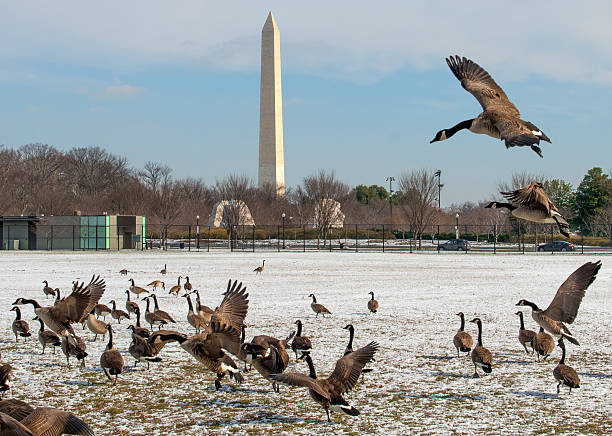goose: (424, 56, 561, 163), (480, 182, 578, 241), (148, 327, 233, 390), (283, 351, 350, 424), (511, 291, 586, 349), (241, 334, 292, 390), (12, 293, 74, 336), (553, 333, 583, 404), (339, 322, 369, 380), (471, 313, 495, 379), (98, 325, 124, 384), (59, 326, 92, 372), (288, 317, 321, 362), (447, 309, 474, 361), (31, 314, 63, 357), (505, 307, 534, 354), (126, 321, 155, 364), (178, 292, 207, 328), (140, 295, 168, 332), (532, 326, 556, 367), (8, 307, 34, 344), (190, 284, 215, 322), (303, 291, 335, 320), (151, 291, 177, 324), (363, 284, 383, 320), (123, 288, 141, 320), (37, 276, 59, 302), (126, 277, 151, 296), (250, 256, 272, 277), (107, 298, 123, 322), (169, 275, 183, 298), (156, 261, 176, 277), (148, 276, 167, 291), (182, 273, 194, 293)
